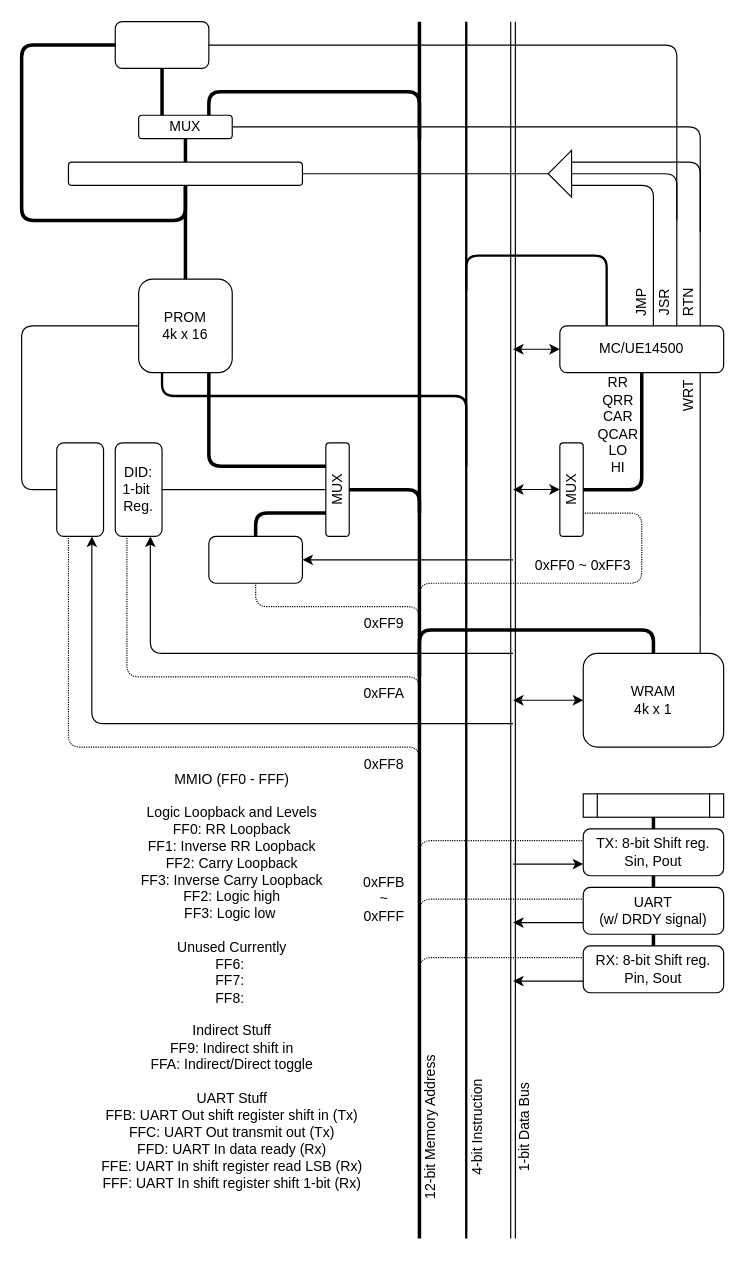
The diagram is 744 pixels wide and 1261 high, and some of its shapes have lost their labels. The shapes that lost their labels are listed below. From the top down, each one's centre as x and y in pixels, then its label:
At point (161, 44): "RA: 12-bit Register".
At point (184, 173): "12-bit Program Counter".
At point (80, 489): "BNK: 1-bit Reg.".
At point (255, 559): "IND: 12-bit Shift Register".
At point (653, 805): "Hex Disp.".
